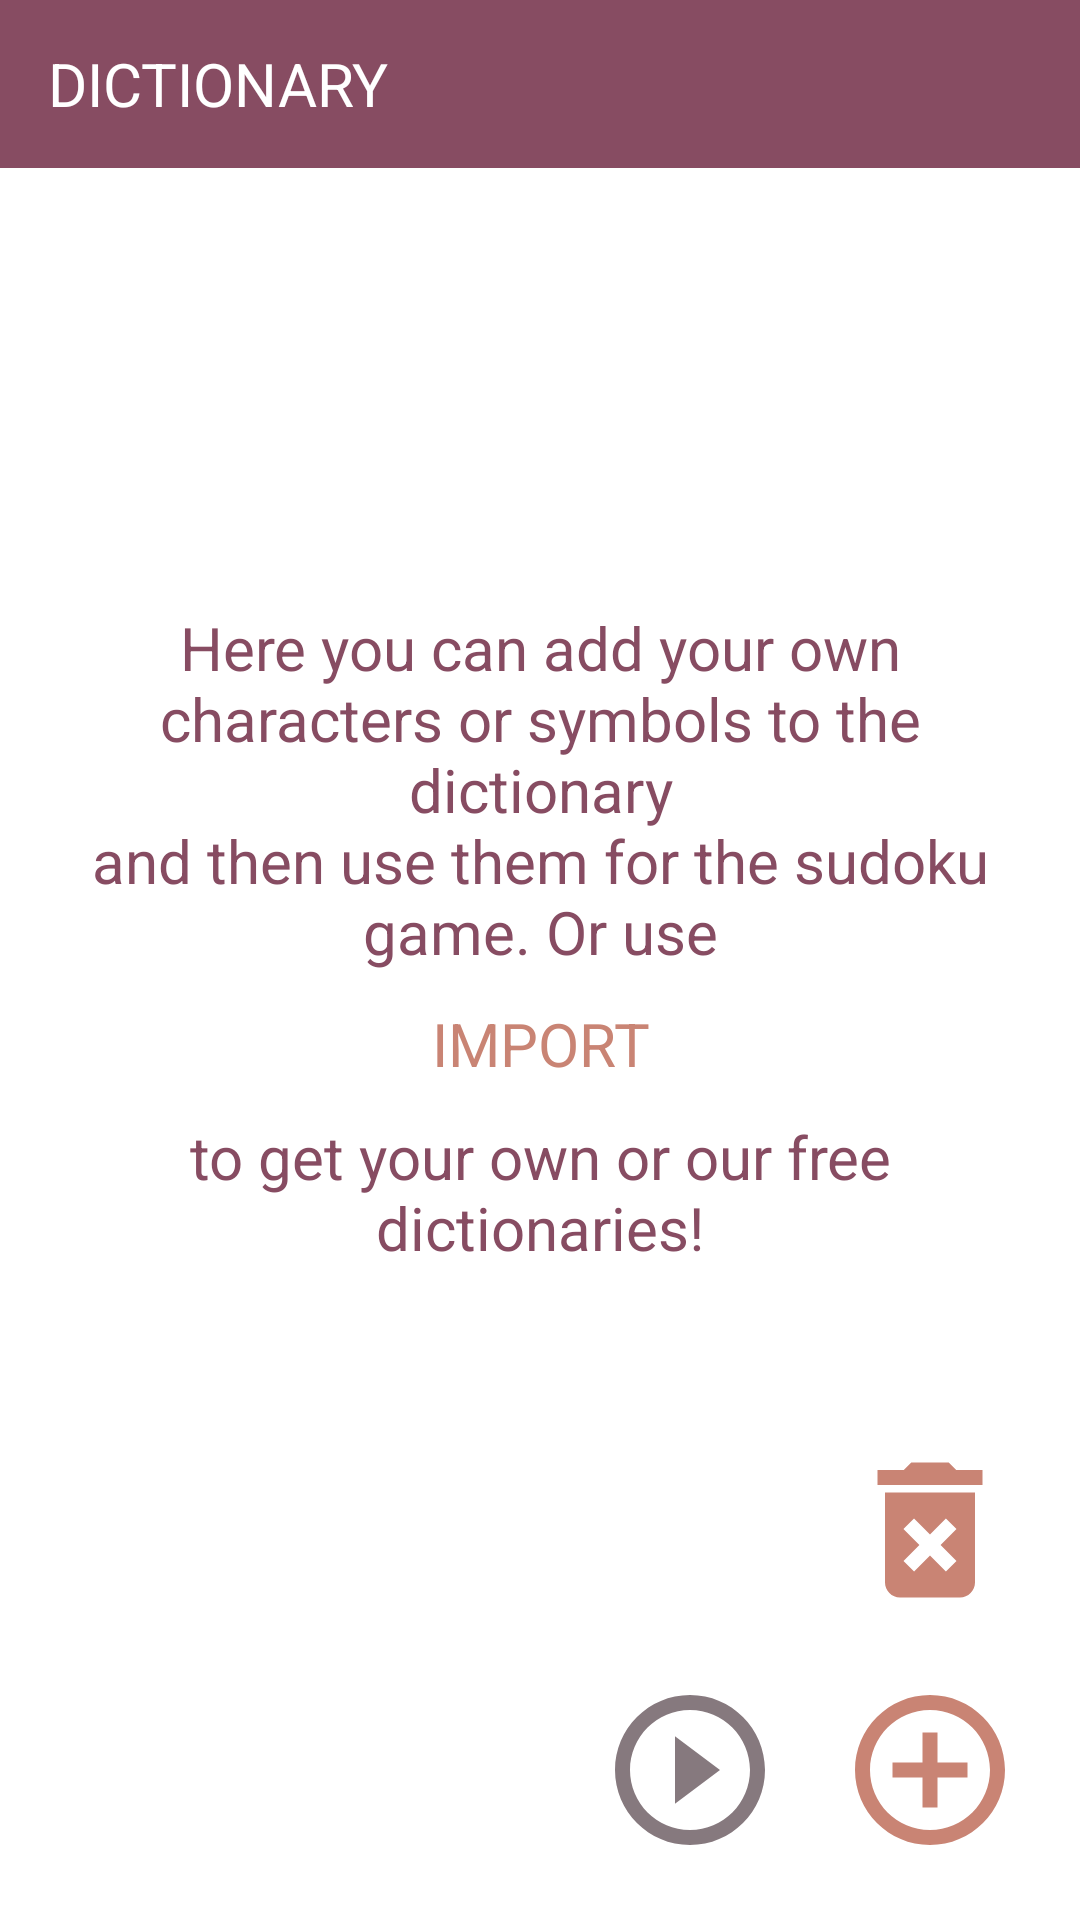

Screen size 1080px x 1920px. Icon name, then its center in pixels as (x=x, y=y):
Add new character button: (x=930, y=1770)
delete forever: (x=930, y=1530)
play circle: (x=690, y=1770)
